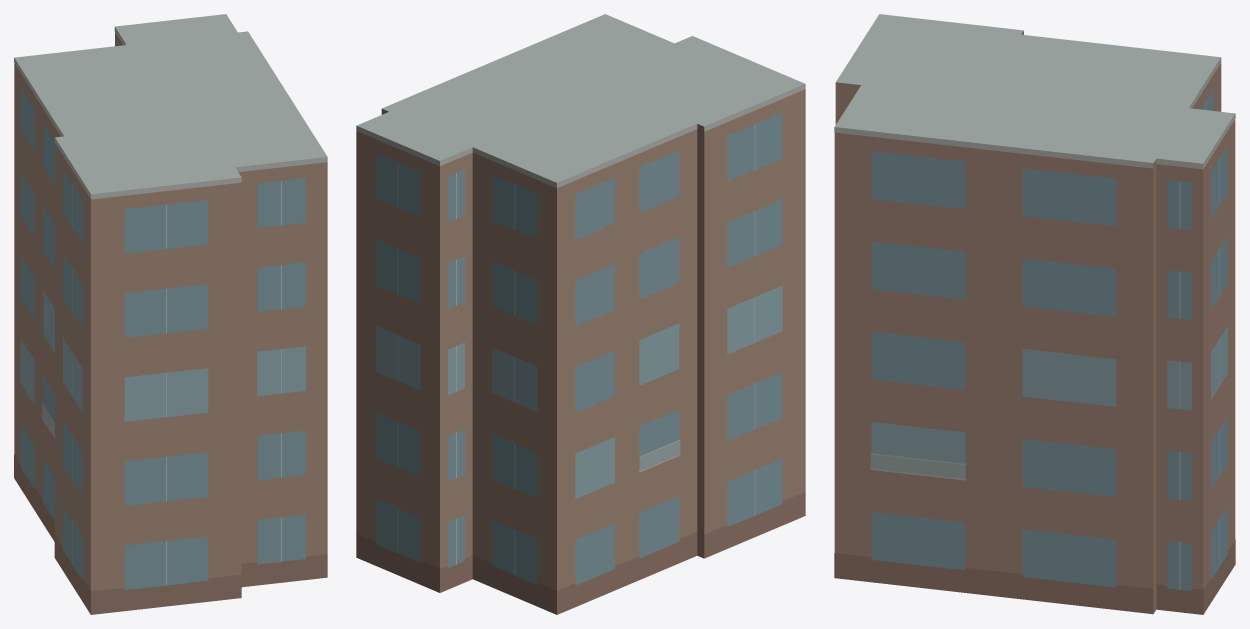
Rendered from survey-upis-32988026.glb.
3 renders of one model, left to right at view 1: azimuth 30°, elevation 25°; view 2: azimuth 150°, elevation 25°; view 3: azimuth 270°, elevation 25°, orthographic. The views are drawn at different scales.
Visible parts, largest first — view 1: survey-upis-32988026.tmp; view 2: survey-upis-32988026.tmp; view 3: survey-upis-32988026.tmp.
Boxes of the visible parts, bbox=[...] form: survey-upis-32988026.tmp: bbox=[14, 14, 327, 614]; survey-upis-32988026.tmp: bbox=[356, 14, 805, 614]; survey-upis-32988026.tmp: bbox=[834, 14, 1235, 614].
Bounding box in the file's own units: 14.15 × 19.85 × 16.
